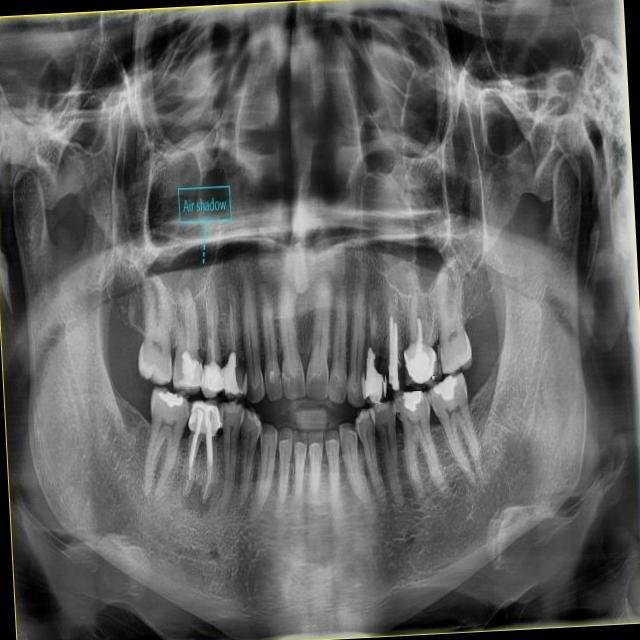dolgu: (406, 346, 437, 384), (365, 346, 387, 399), (189, 402, 222, 435), (428, 371, 459, 404), (224, 354, 245, 399), (182, 350, 204, 388), (203, 360, 225, 396), (398, 388, 424, 416), (154, 392, 186, 413)
kanal-tedavisi: (188, 427, 220, 495), (405, 309, 435, 356), (385, 305, 402, 366)
